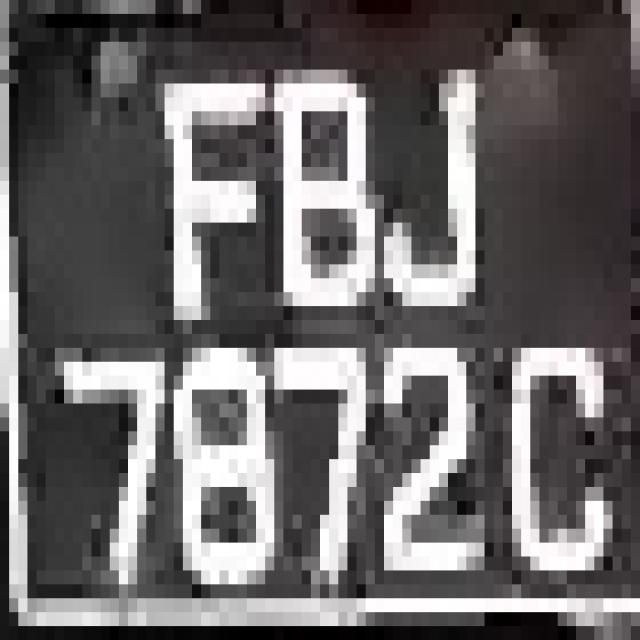2: (356, 306, 484, 571)
7: (256, 264, 384, 640), (46, 292, 164, 598)
8: (165, 292, 292, 584)
B: (256, 42, 384, 376)
C: (503, 320, 622, 557)
F: (137, 69, 256, 334)
J: (356, 28, 503, 320)
